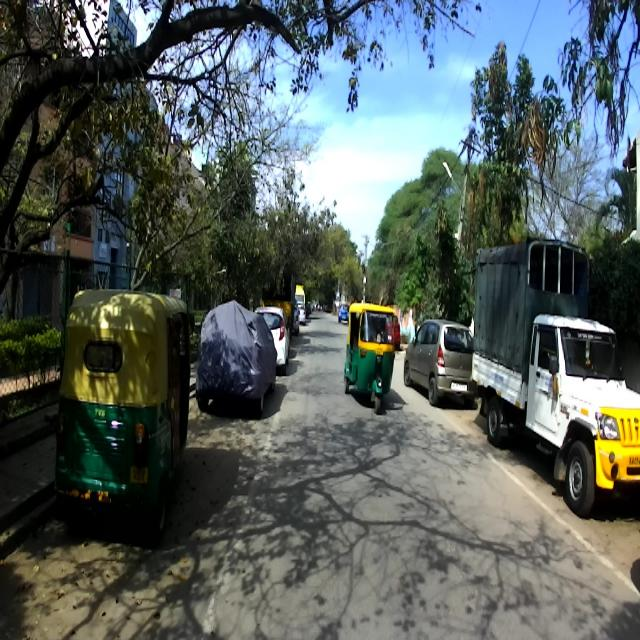autorickshaw: (53, 289, 195, 538), (343, 302, 399, 412)
car: (194, 300, 276, 414), (403, 318, 481, 407)
truck: (461, 219, 640, 513)
